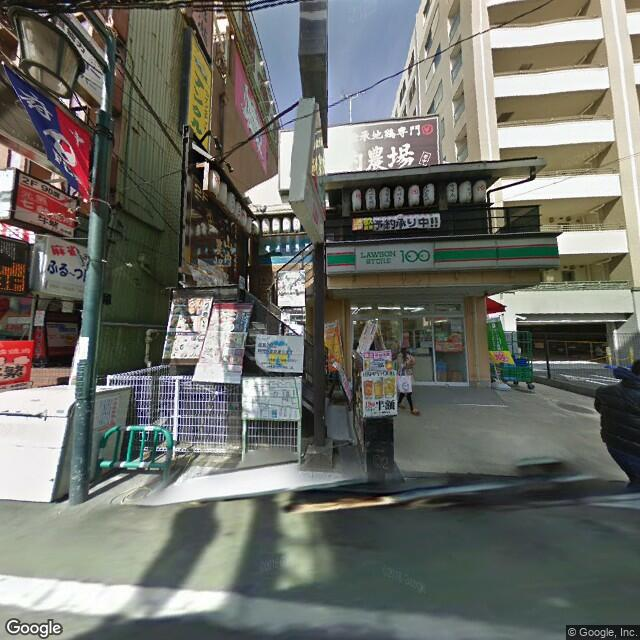lawson: (325, 234, 563, 276)
